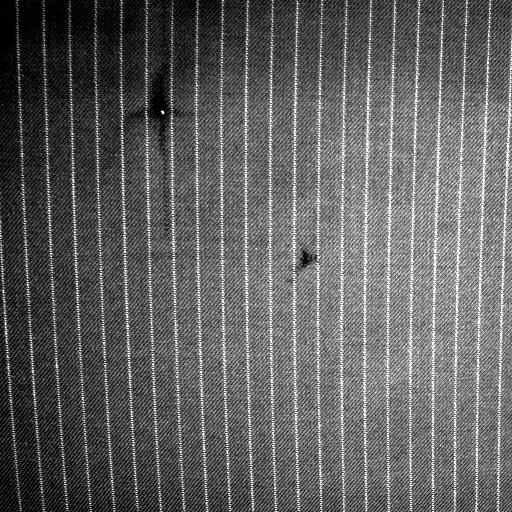fabric_hole: (291, 236, 325, 276), (155, 91, 175, 125), (155, 94, 173, 126)
